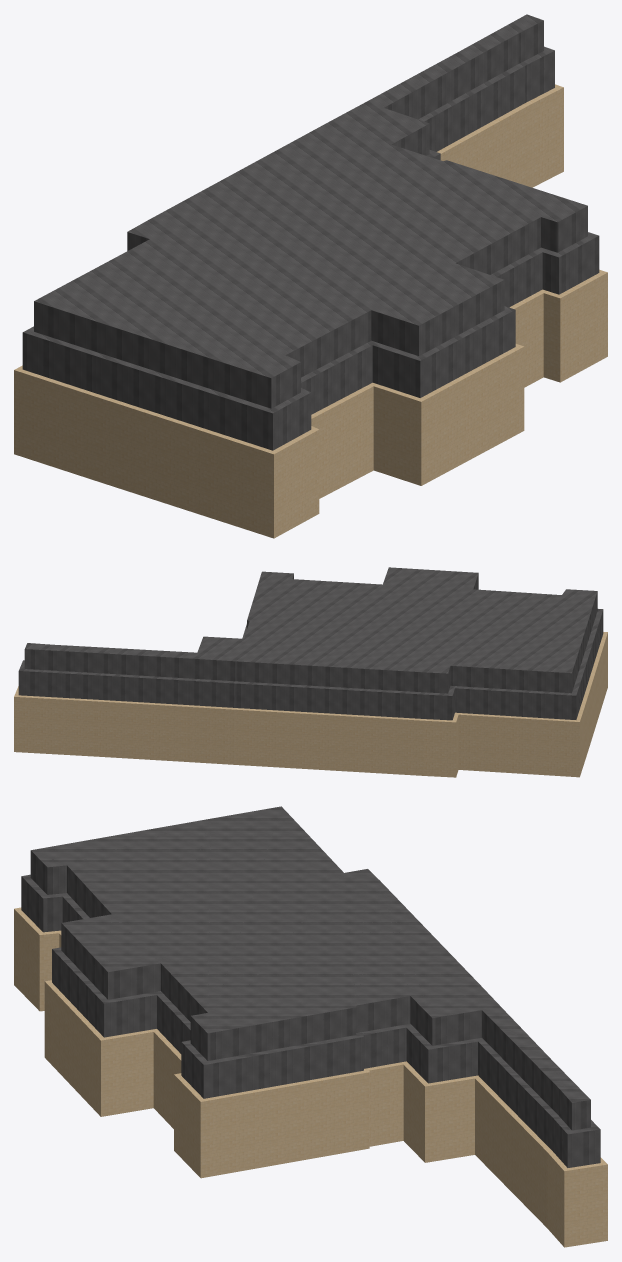
The picture shows the model from 3 angles, top to bottom: view 1: azimuth 30°, elevation 25°; view 2: azimuth 150°, elevation 25°; view 3: azimuth 270°, elevation 25°; orthographic projection. The views are drawn at different scales.
Parts seen in each view (by area): view 1: lmbase_231220414_roof_b, lmbase_231220414, lmbase_231220414_roof_a; view 2: lmbase_231220414_roof_b, lmbase_231220414, lmbase_231220414_roof_a; view 3: lmbase_231220414_roof_b, lmbase_231220414, lmbase_231220414_roof_a.
Part boxes in pixels (box(x1,y1,x2,y2)): lmbase_231220414_roof_b: box(34, 14, 587, 408); lmbase_231220414: box(14, 84, 607, 538); lmbase_231220414_roof_a: box(22, 46, 599, 450); lmbase_231220414_roof_b: box(24, 567, 597, 693); lmbase_231220414: box(14, 632, 607, 777); lmbase_231220414_roof_a: box(18, 609, 603, 720); lmbase_231220414_roof_b: box(30, 806, 590, 1130); lmbase_231220414: box(14, 907, 607, 1247); lmbase_231220414_roof_a: box(21, 874, 600, 1167).
Size of the model in its own units: 71.54 by 14.8 by 57.83.
2 materials, 2 textured.
